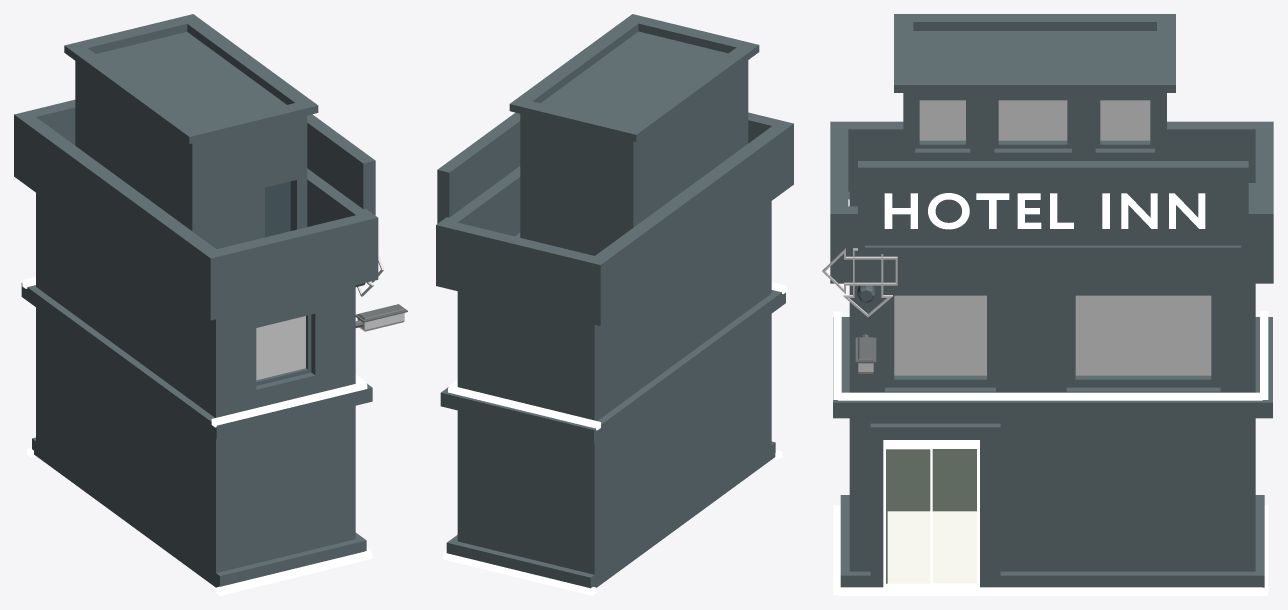
Rendered from hotel.fbx.
The picture shows the model from 3 angles, left to right: view 1: azimuth 30°, elevation 25°; view 2: azimuth 150°, elevation 25°; view 3: azimuth 270°, elevation 25°; orthographic projection. The views are drawn at different scales.
Visible parts, largest first — view 1: house2, Cube.006, Cube.010, Cube.005, Cube.003, Cube.012; view 2: house2, Cube.006, Cube.010, Cube.003, Cube.005; view 3: house2, Cube.010, Cube.006, Cube.003, Cube.005, Text.001, window#4_004, Cube.012, Plane.007.
Part boxes in pixels (x1,y1,x2,y2): house2: [14, 14, 378, 587]; Cube.006: [21, 283, 372, 439]; Cube.010: [307, 114, 375, 215]; Cube.005: [27, 447, 372, 595]; Cube.003: [22, 277, 367, 427]; Cube.012: [355, 304, 407, 331]; house2: [436, 14, 793, 588]; Cube.006: [440, 290, 785, 443]; Cube.010: [437, 112, 520, 223]; Cube.003: [448, 282, 786, 430]; Cube.005: [443, 450, 782, 595]; house2: [830, 14, 1273, 587]; Cube.010: [858, 161, 1248, 253]; Cube.006: [833, 317, 1272, 418]; Cube.003: [833, 311, 1268, 400]; Cube.005: [833, 505, 1268, 595]; Text.001: [884, 193, 1205, 229]; window#4_004: [883, 440, 979, 587]; Cube.012: [855, 337, 876, 373]; Plane.007: [822, 248, 897, 293].
Size of the model in its own units: 357 by 721 by 595.
